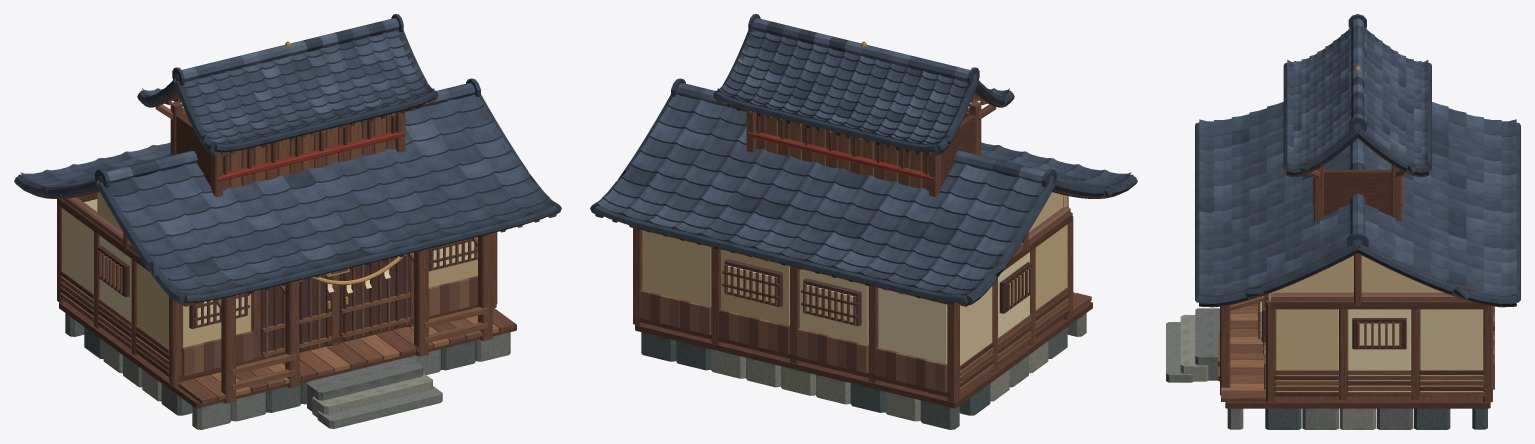
Rendered from temple.glb.
The picture shows the model from 3 angles, left to right: view 1: azimuth 30°, elevation 25°; view 2: azimuth 150°, elevation 25°; view 3: azimuth 270°, elevation 25°; orthographic projection. The views are drawn at different scales.
Visible parts, largest first — view 1: Fired roof tiles and ridge caps.001, Timber frame, sill, tongue-and-groove soffit and rafters.001, Raised clerestory wing and copper finial, Plaster, infill and lattice.001, Cut stone foundations and steps.001, Upper carved bracket tower, painted louvres and prayer balco, Fittings, paper and plaque.001; view 2: Fired roof tiles and ridge caps.001, Plaster, infill and lattice.001, Raised clerestory wing and copper finial, Timber frame, sill, tongue-and-groove soffit and rafters.001, Cut stone foundations and steps.001, Upper carved bracket tower, painted louvres and prayer balco; view 3: Fired roof tiles and ridge caps.001, Timber frame, sill, tongue-and-groove soffit and rafters.001, Raised clerestory wing and copper finial, Plaster, infill and lattice.001, Cut stone foundations and steps.001, Upper carved bracket tower, painted louvres and prayer balco.
Part boxes in pixels (<box>): Fired roof tiles and ridge caps.001: <box>14,78,561,305</box>; Timber frame, sill, tongue-and-groove soffit and rafters.001: <box>33,180,556,408</box>; Raised clerestory wing and copper finial: <box>137,14,438,153</box>; Plaster, infill and lattice.001: <box>62,192,477,376</box>; Cut stone foundations and steps.001: <box>65,313,510,429</box>; Upper carved bracket tower, painted louvres and prayer balco: <box>143,41,435,197</box>; Fittings, paper and plaque.001: <box>310,254,406,308</box>; Fired roof tiles and ridge caps.001: <box>590,78,1137,305</box>; Plaster, infill and lattice.001: <box>640,192,1070,392</box>; Raised clerestory wing and copper finial: <box>713,14,1014,153</box>; Timber frame, sill, tongue-and-groove soffit and rafters.001: <box>595,180,1118,408</box>; Cut stone foundations and steps.001: <box>641,313,1086,429</box>; Upper carved bracket tower, painted louvres and prayer balco: <box>716,41,1008,197</box>; Fired roof tiles and ridge caps.001: <box>1195,102,1520,306</box>; Timber frame, sill, tongue-and-groove soffit and rafters.001: <box>1199,247,1516,408</box>; Raised clerestory wing and copper finial: <box>1283,14,1431,175</box>; Plaster, infill and lattice.001: <box>1260,255,1494,391</box>; Cut stone foundations and steps.001: <box>1166,308,1487,429</box>; Upper carved bracket tower, painted louvres and prayer balco: <box>1286,66,1428,221</box>.
Bounding box in the file's own units: 9.65 × 7.26 × 8.05.
6 materials, 3 textured.
